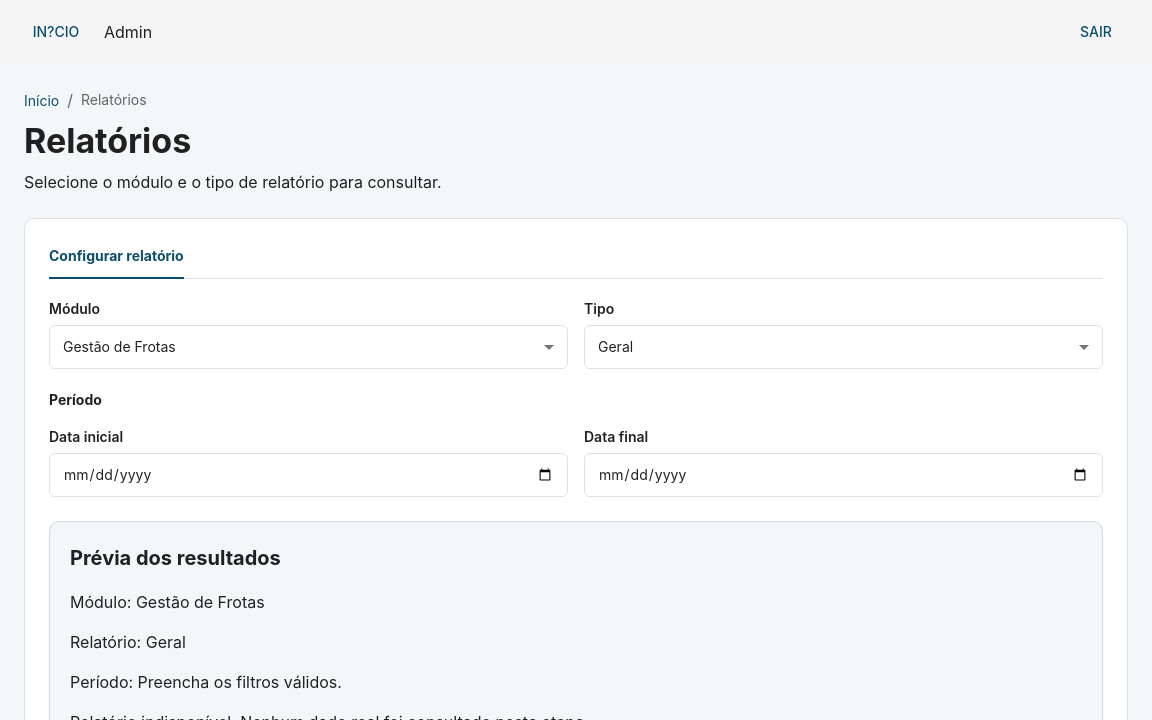
Test: consulta vehicle-consumption sem filtros e diferencia vazio de falha
Select "Individual" in the dropdown labelled "Tipo": [844, 347] box [584, 325, 1103, 369]
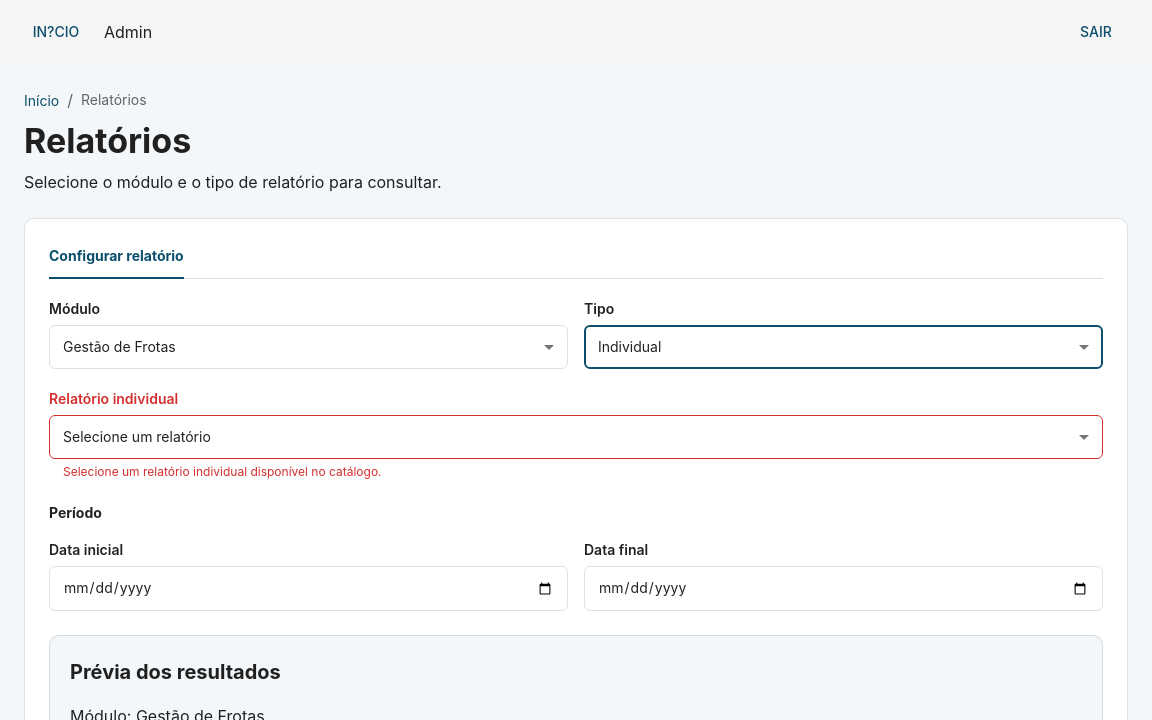
Select "Abastecimentos" in the dropdown labelled "Relatório individual": [576, 437] box [49, 415, 1103, 459]
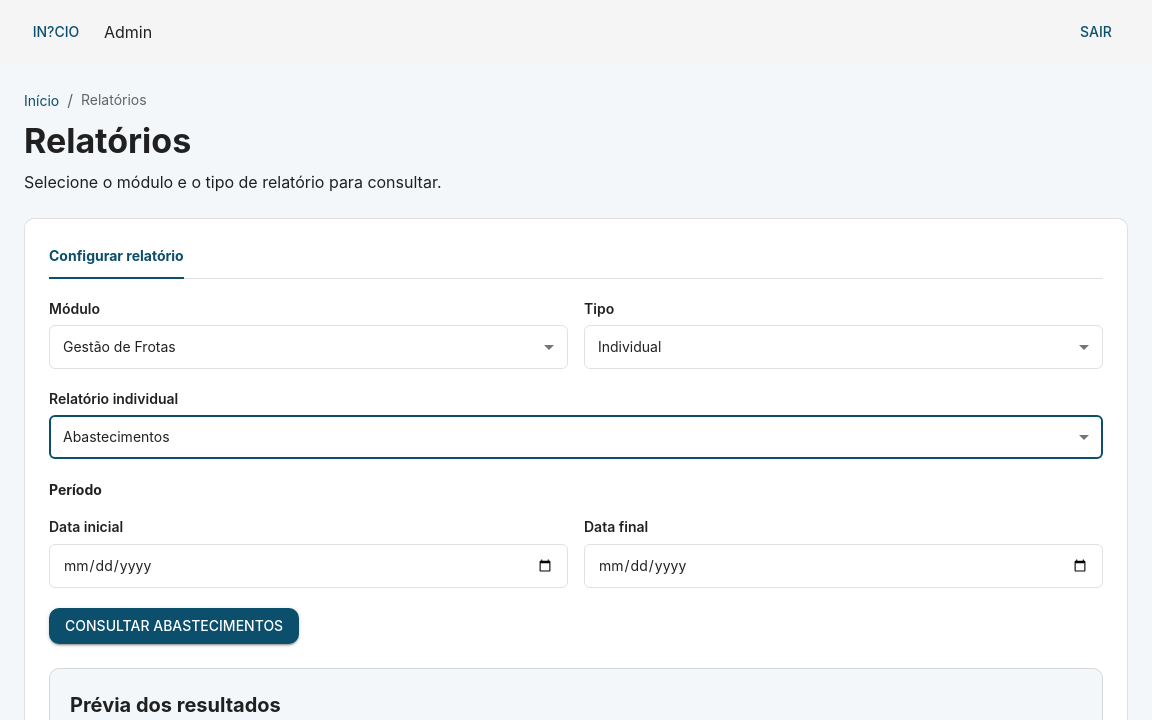
Select "SVO" in the dropdown labelled "Módulo": [308, 347] box [49, 325, 568, 369]
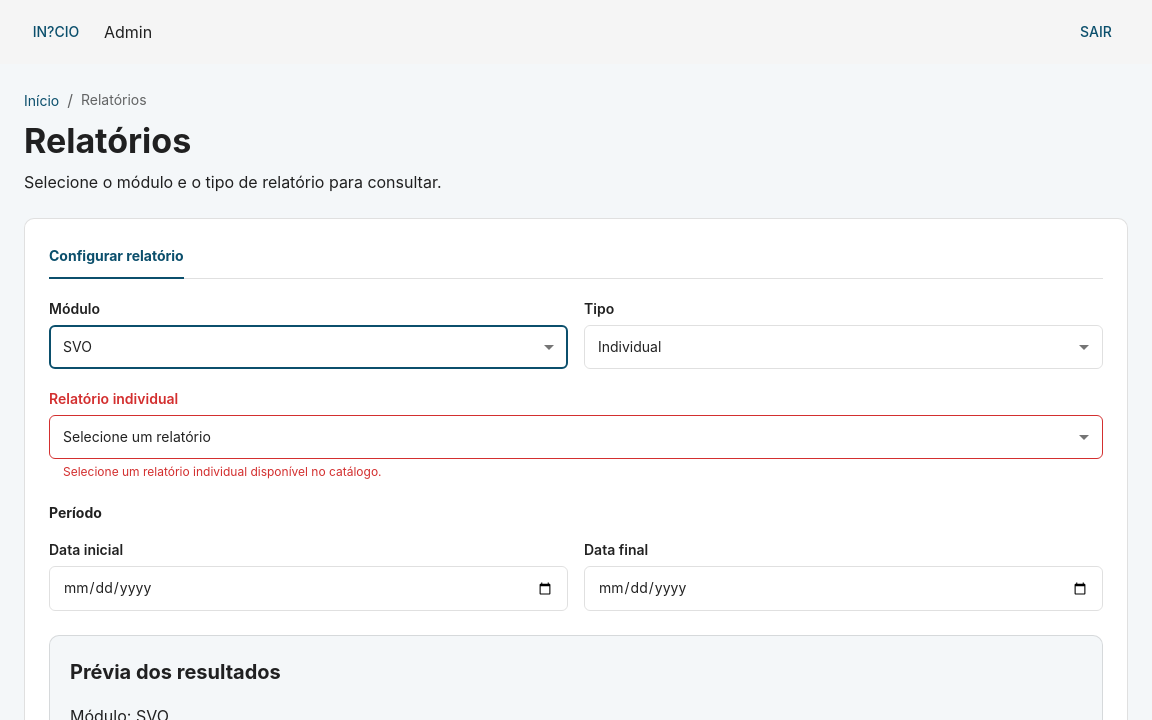
Select "Consumo por veículo" in the dropdown labelled "Relatório individual": [576, 437] box [49, 415, 1103, 459]
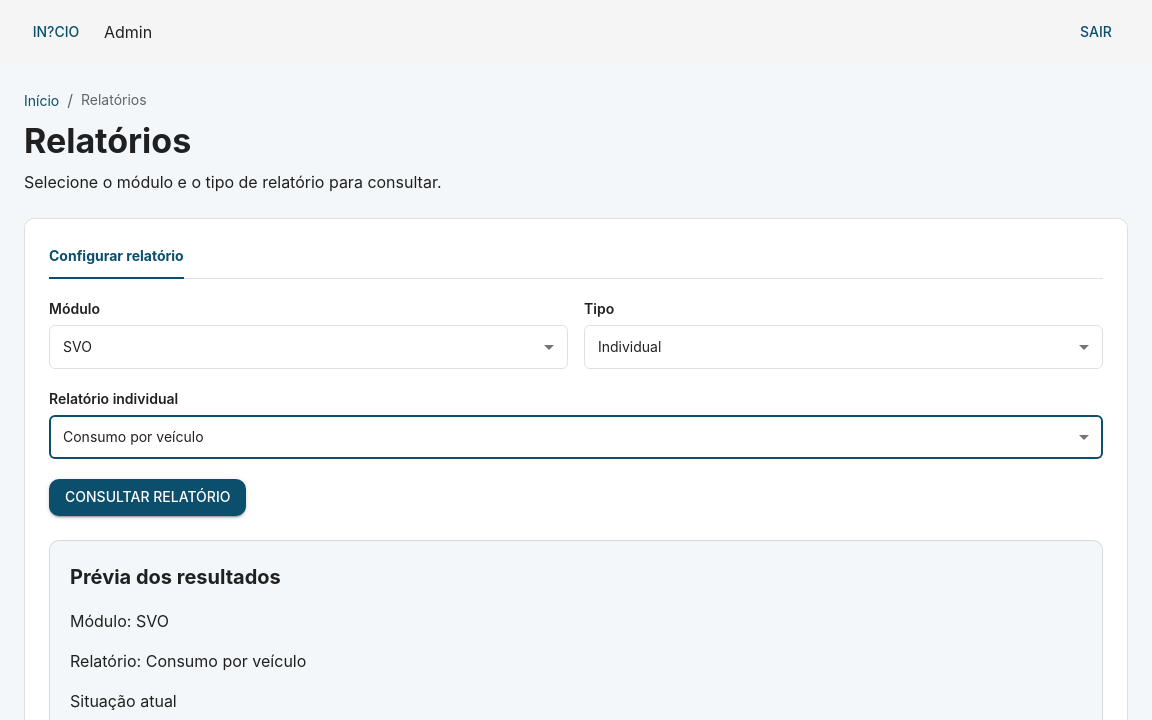
Check: the label labelled "Data inicial" is gone
Click the button "Consultar relatório": [148, 498] box [49, 480, 246, 516]
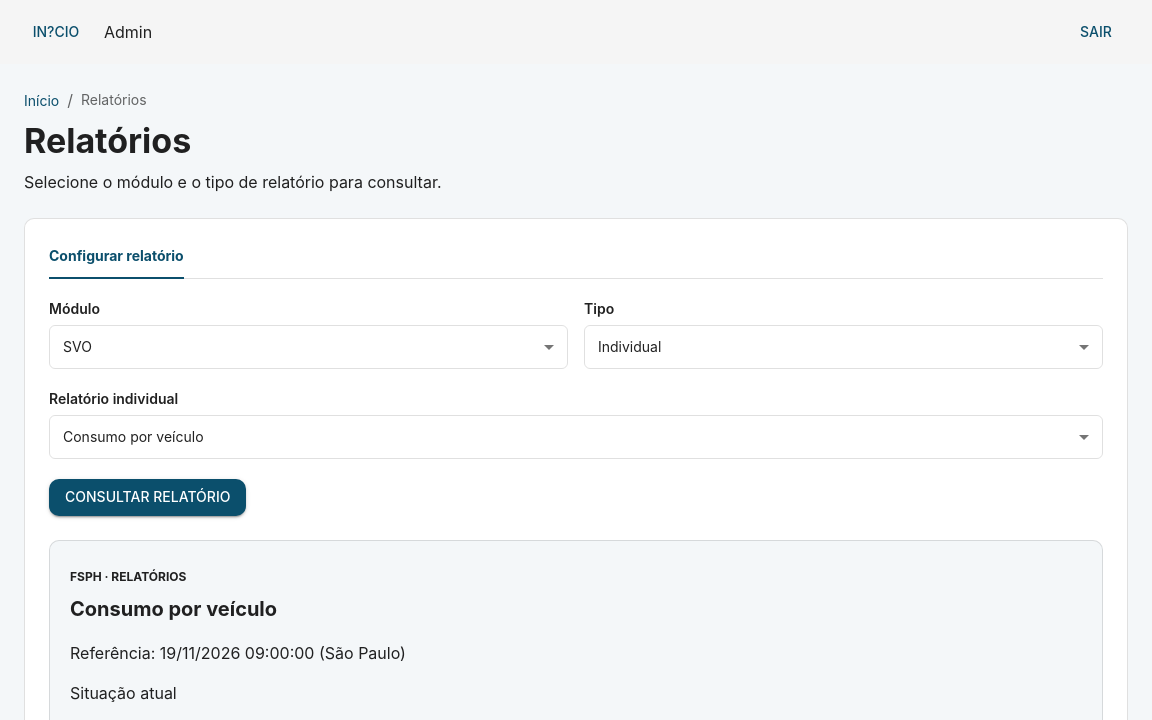
Click the button "Consultar relatório": [148, 498] box [49, 480, 246, 516]
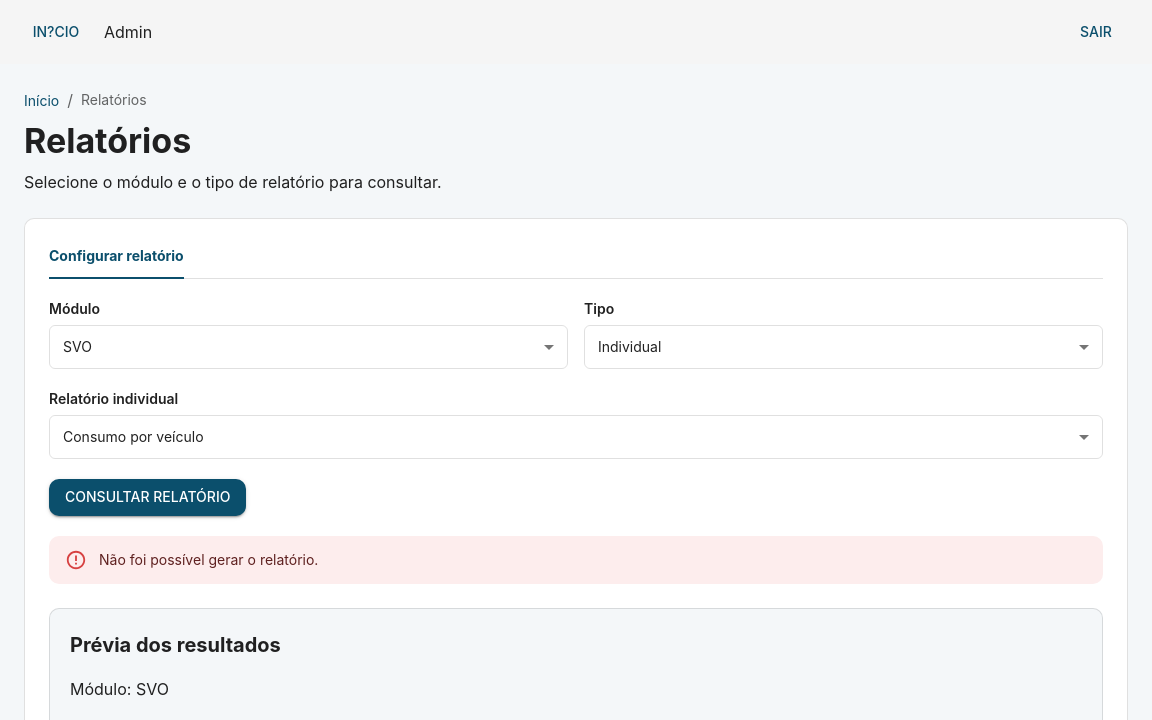
Check: the text "Não foi possível gerar o relatório." is shown, box [99, 551, 318, 568]
